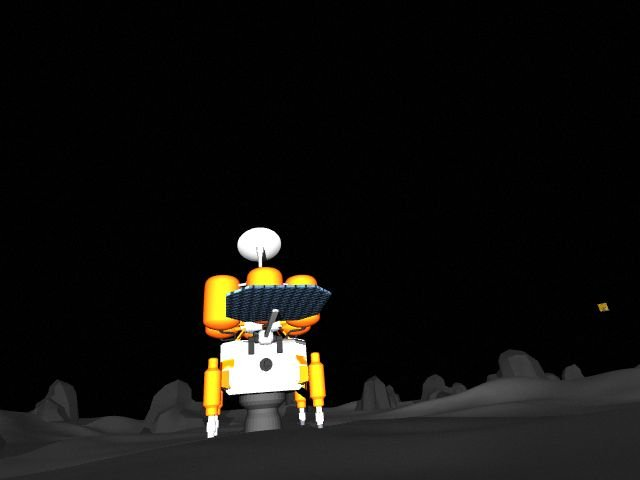homebase: (202, 225, 334, 441)
